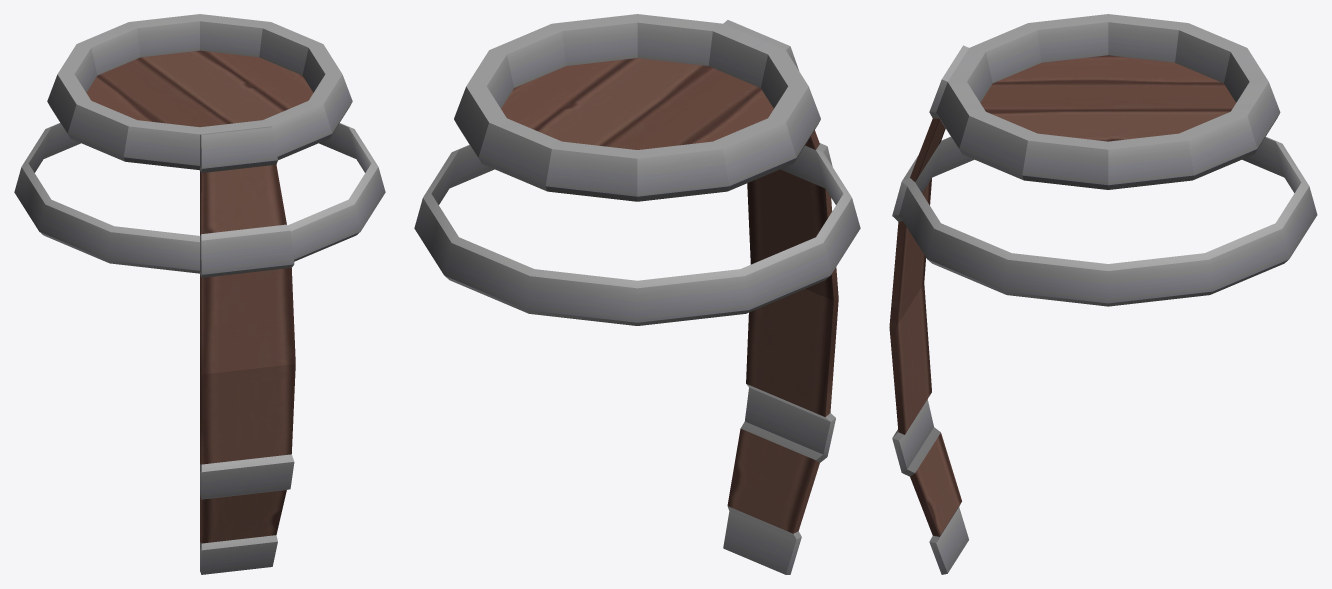
File: Barrel Parts.fbx
The picture shows the model from 3 angles, left to right: view 1: azimuth 30°, elevation 25°; view 2: azimuth 150°, elevation 25°; view 3: azimuth 270°, elevation 25°; orthographic projection. The views are drawn at different scales.
Visible parts, largest first — view 1: Barrel_Part2, Barrel_Part, Barrel_Part1; view 2: Barrel_Part, Barrel_Part2, Barrel_Part1; view 3: Barrel_Part, Barrel_Part1, Barrel_Part2.
Boxes of the visible parts, left/top/right/bottom form: Barrel_Part2: left=200, top=126, right=295, bottom=574; Barrel_Part: left=47, top=14, right=352, bottom=170; Barrel_Part1: left=14, top=123, right=385, bottom=273; Barrel_Part: left=454, top=14, right=820, bottom=201; Barrel_Part2: left=723, top=20, right=838, bottom=574; Barrel_Part1: left=414, top=145, right=860, bottom=325; Barrel_Part: left=936, top=14, right=1280, bottom=189; Barrel_Part1: left=899, top=136, right=1317, bottom=306; Barrel_Part2: left=889, top=45, right=968, bottom=574.
Size of the model in its own units: 89.39 by 117 by 91.45.
